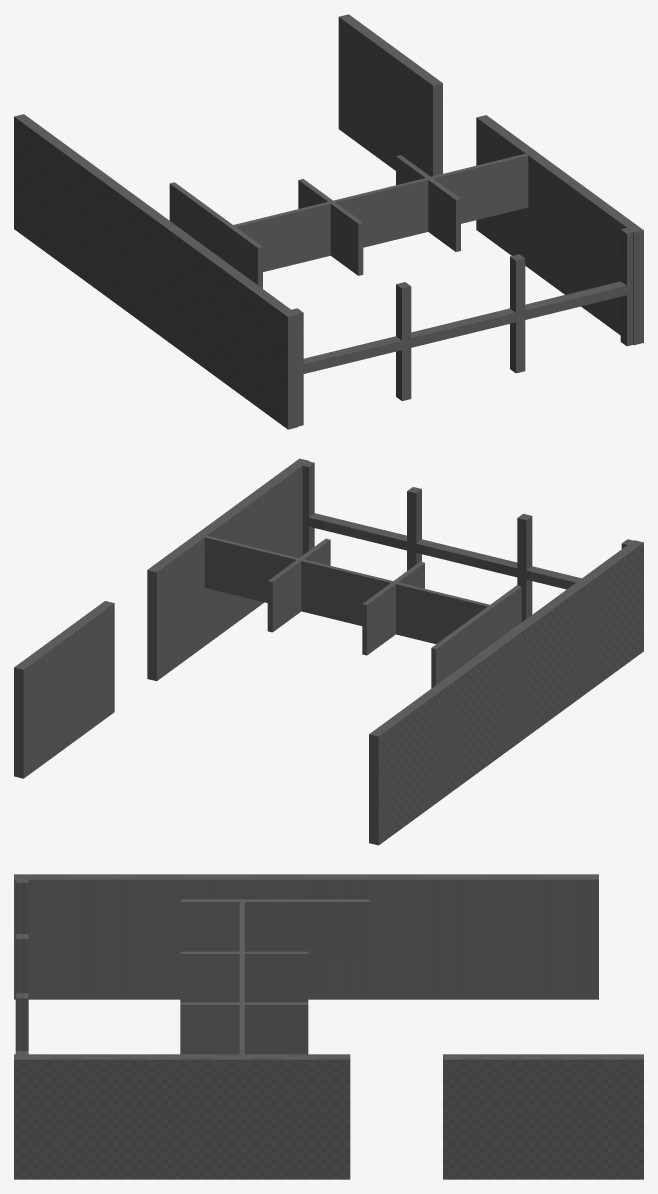
Rendered from SM_Wall.glb.
The picture shows the model from 3 angles, top to bottom: view 1: azimuth 30°, elevation 25°; view 2: azimuth 150°, elevation 25°; view 3: azimuth 270°, elevation 25°; orthographic projection. The views are drawn at different scales.
Visible parts, largest first — view 1: SM_Wall; view 2: SM_Wall; view 3: SM_Wall.
Boxes of the visible parts, box(x1,y1,x2,y2) form: SM_Wall: box(14, 14, 643, 429); SM_Wall: box(14, 458, 643, 845); SM_Wall: box(14, 874, 643, 1179).
Bounding box in the file's own units: 1675 × 506 × 2406.
1 material, 1 textured.
